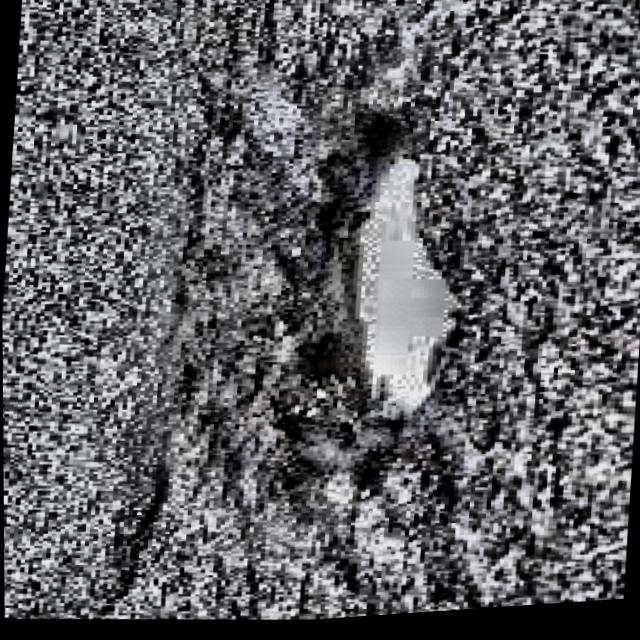pothole: (356, 155, 453, 407)
